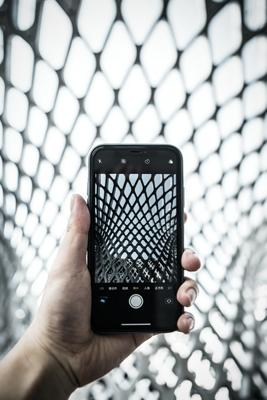Mobile Phone: (86, 143, 185, 334)
